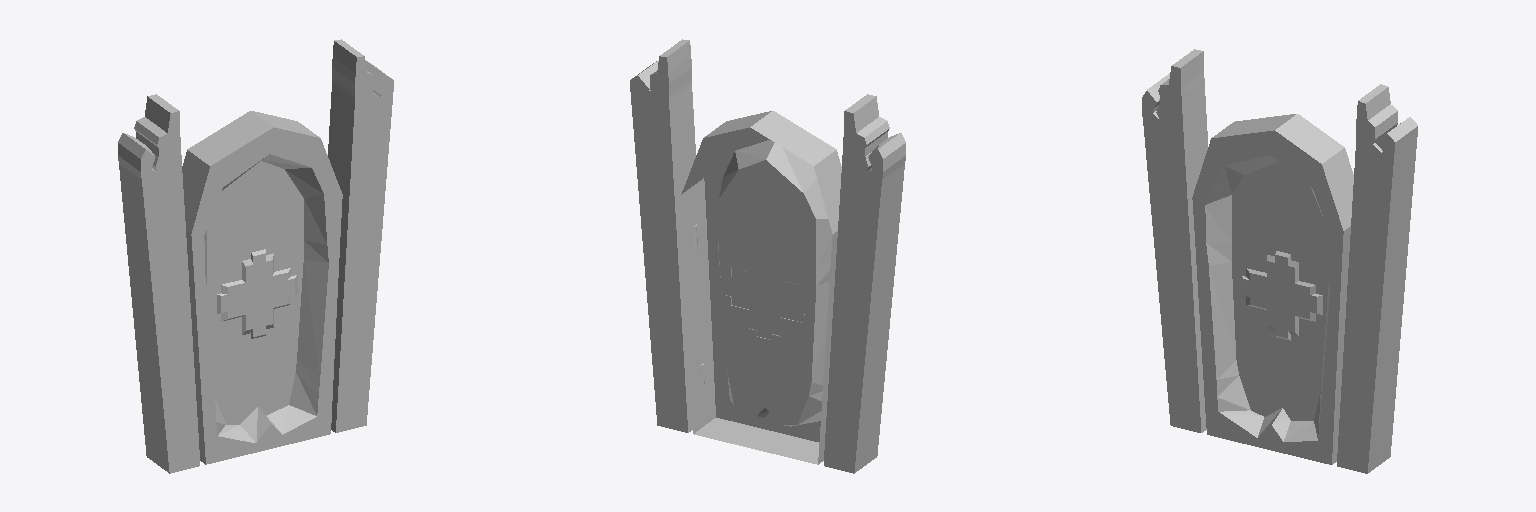
The model's file is porta.obj.
3 views of the same model, side by side, from view 1: azimuth 30°, elevation 25°; view 2: azimuth 150°, elevation 25°; view 3: azimuth 330°, elevation 25° (orthographic).
Parts seen in each view (by area): view 1: pCube9; view 2: pCube9; view 3: pCube9.
Part boxes in pixels (bbox=[...]): pCube9: bbox=[118, 39, 393, 473]; pCube9: bbox=[630, 39, 905, 473]; pCube9: bbox=[1142, 49, 1417, 473].
Size of the model in its own units: 6.35 by 8.87 by 1.